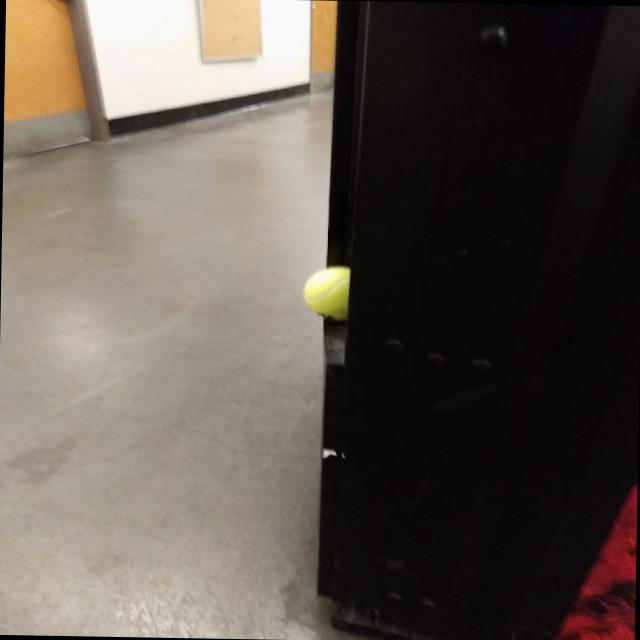Tennis Ball: (303, 262, 357, 320)
